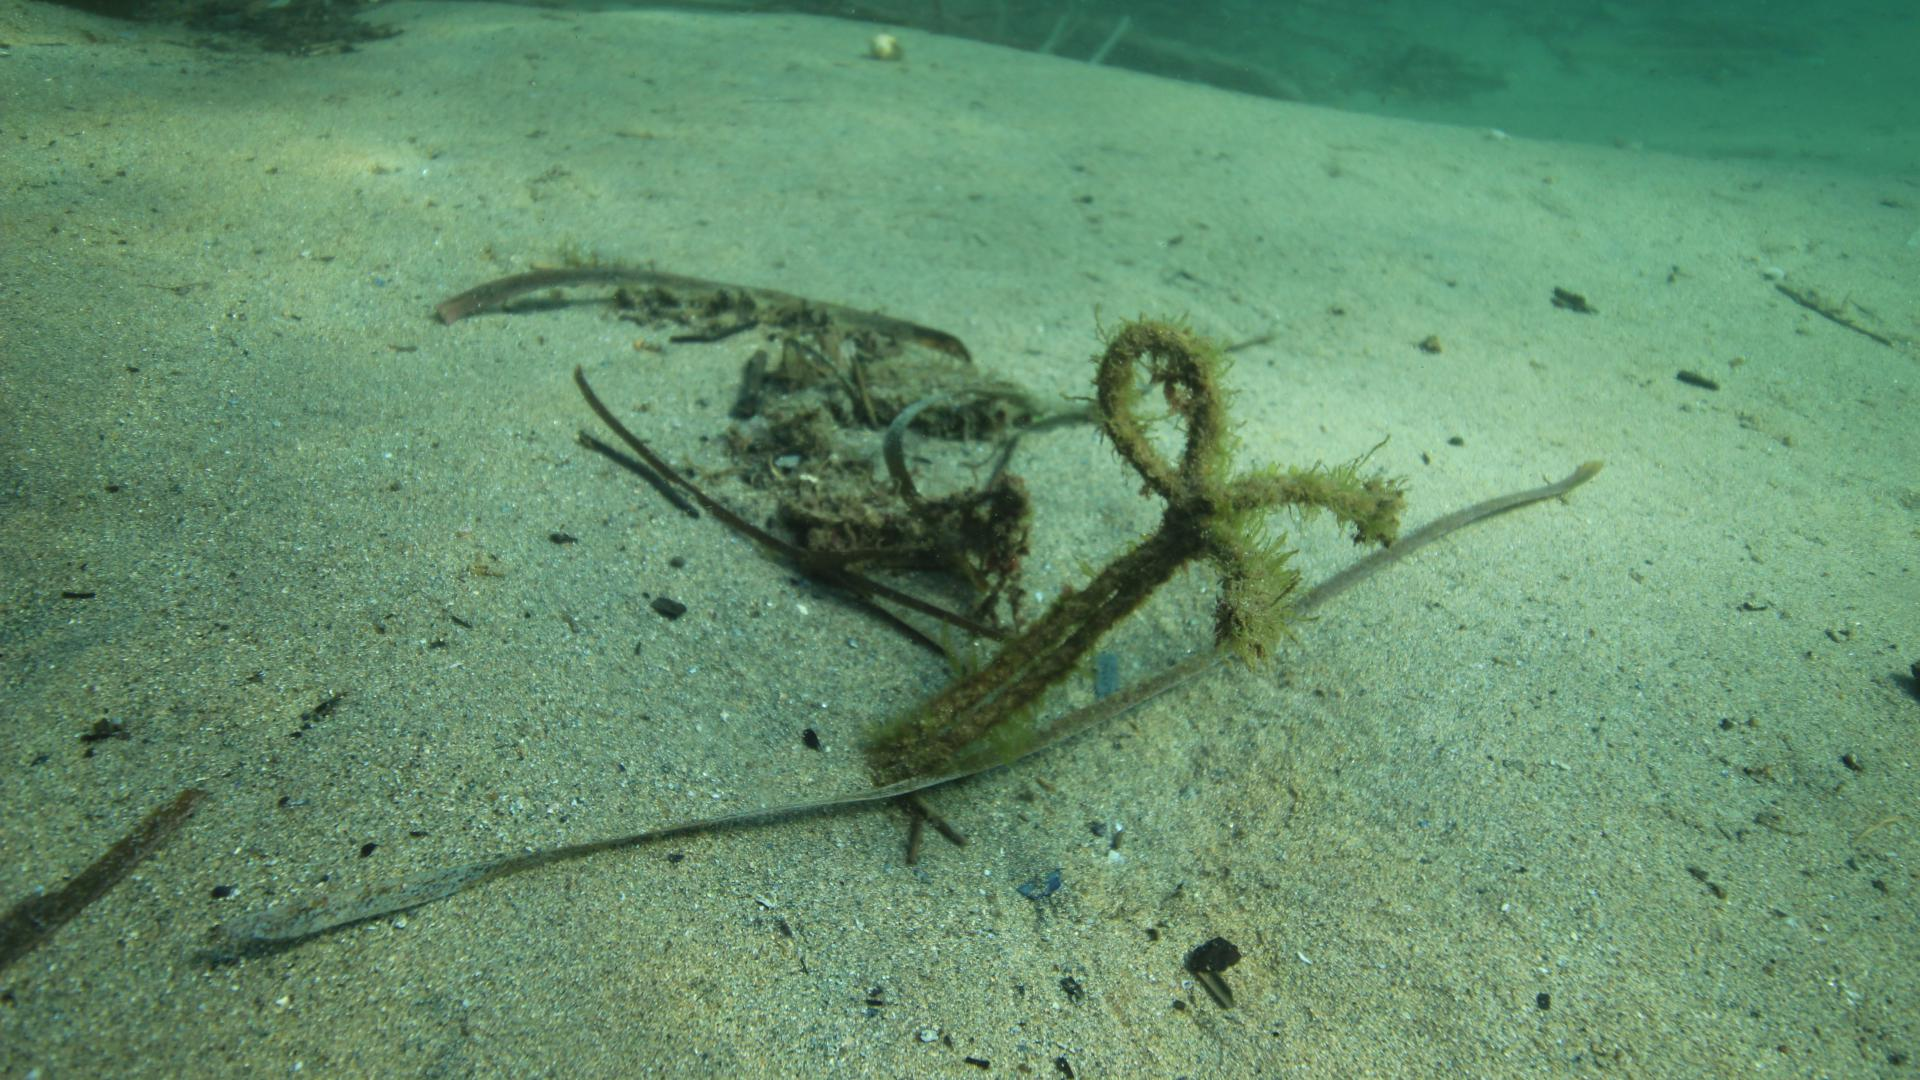bundle of ropes: (865, 313, 1349, 789)
